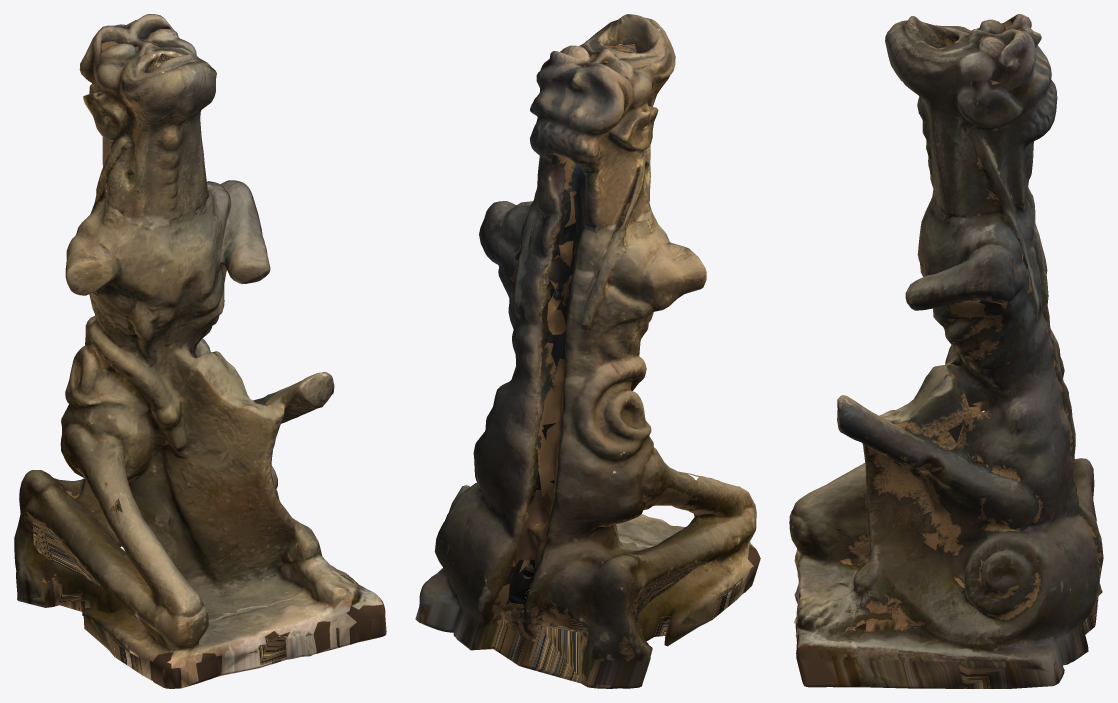
Rendered from 08_human_skeleton.glb.
3 views of the same model, side by side, from view 1: azimuth 30°, elevation 25°; view 2: azimuth 150°, elevation 25°; view 3: azimuth 270°, elevation 25° (orthographic). The views are drawn at different scales.
Parts seen in each view (by area): view 1: Mesh_0; view 2: Mesh_0; view 3: Mesh_0.
Part boxes in pixels (x1,y1,x2,y2): Mesh_0: (14, 14, 386, 688); Mesh_0: (415, 14, 760, 688); Mesh_0: (789, 14, 1103, 688).
Size of the model in its own units: 0.8803 by 1.98 by 0.9488.
6 materials, 6 textured.
